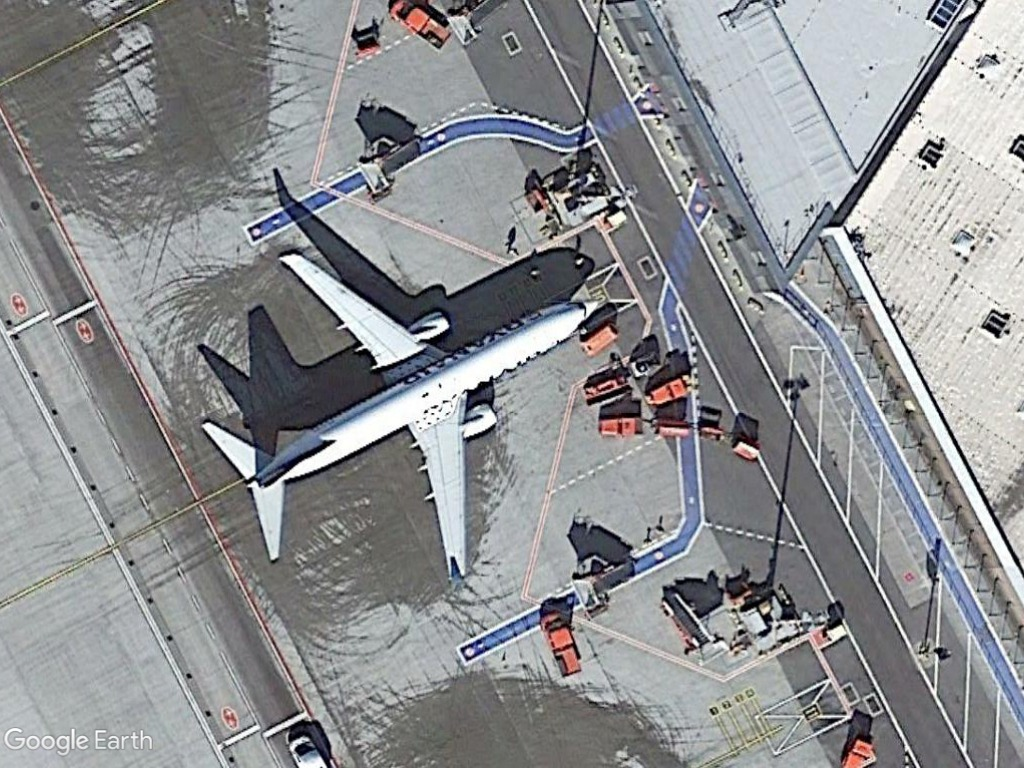airliner: (191, 240, 606, 595)
